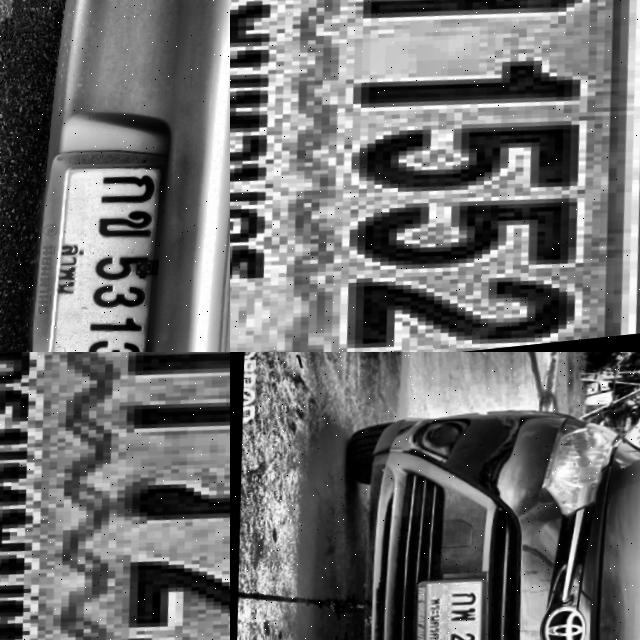license-plate: (230, 0, 640, 352), (0, 352, 230, 640), (20, 144, 178, 352), (400, 573, 491, 640)
